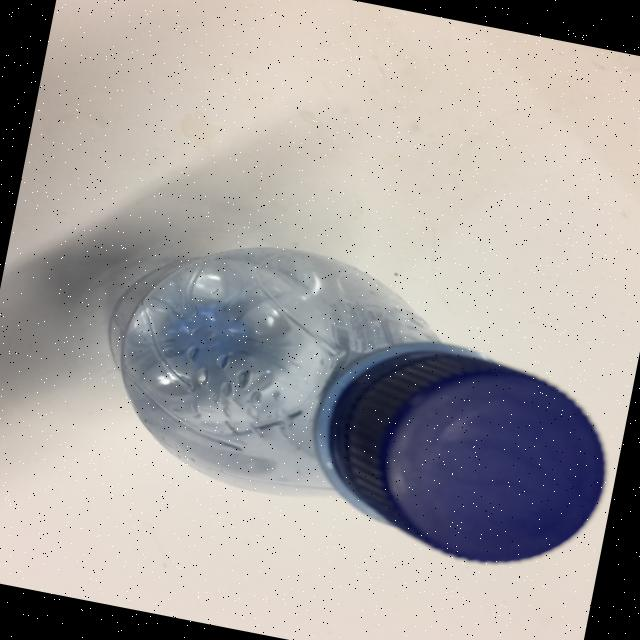plastic: (77, 215, 638, 584)
